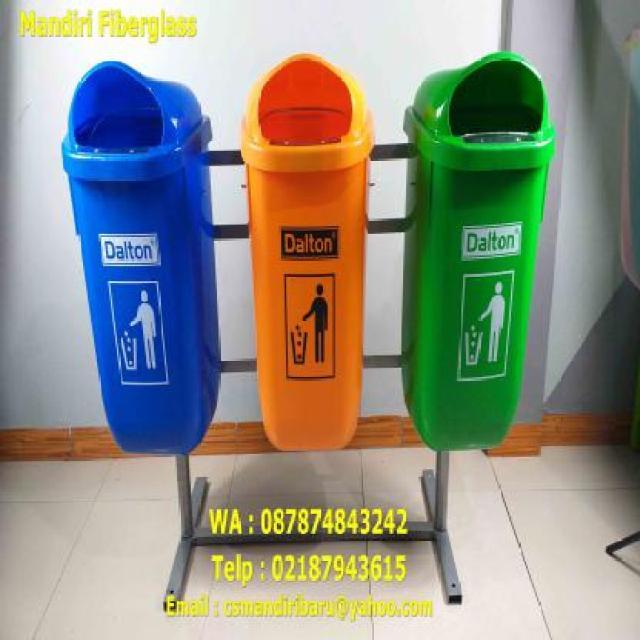garbage container: (395, 34, 563, 491), (53, 53, 224, 489), (232, 36, 383, 469)
